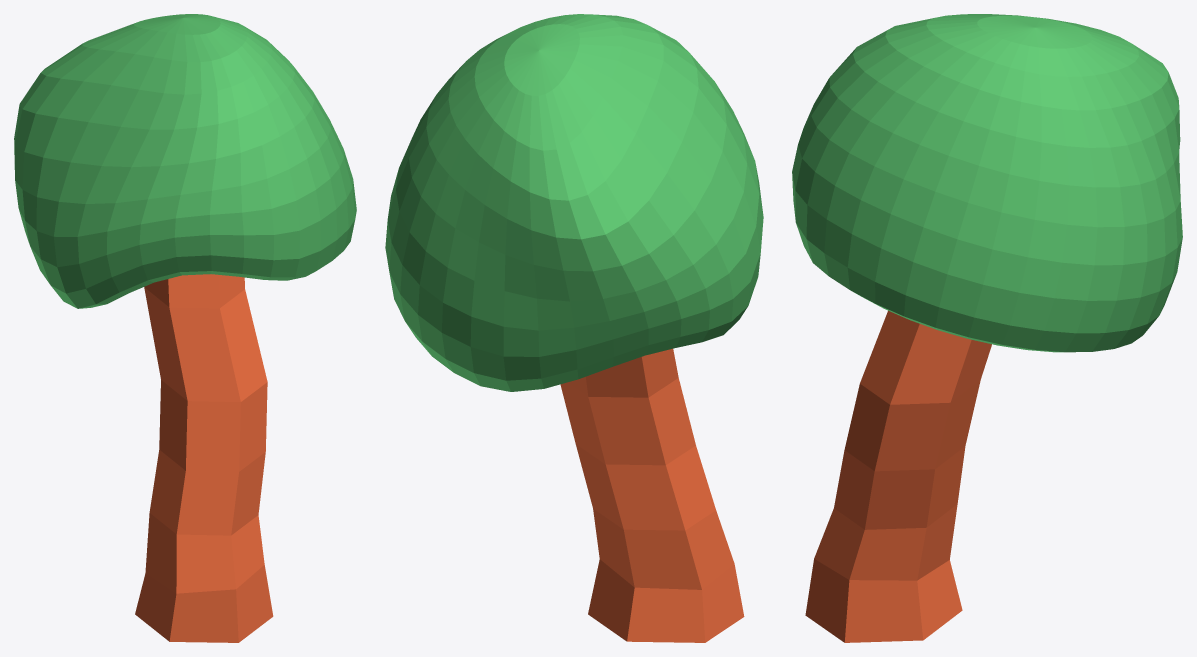
Rendered from Tree03.fbx.
The picture shows the model from 3 angles, left to right: view 1: azimuth 30°, elevation 25°; view 2: azimuth 150°, elevation 25°; view 3: azimuth 270°, elevation 25°; orthographic projection. The views are drawn at different scales.
Parts seen in each view (by area): view 1: Sphere; view 2: Sphere; view 3: Sphere.
Boxes of the visible parts, x1,y1,x2,y2 form: Sphere: [14, 14, 356, 642]; Sphere: [385, 14, 763, 642]; Sphere: [792, 14, 1182, 642].
Size of the model in its own units: 1091 by 1963 by 1126.
